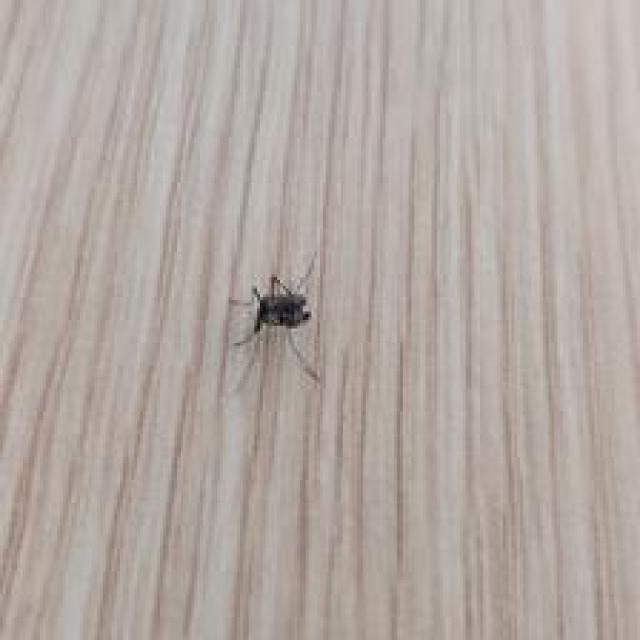Aedes albopictus: (227, 250, 322, 393)
